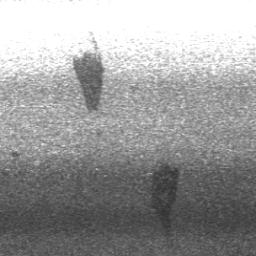Iron scale compression: (73, 36, 104, 113), (152, 166, 179, 234)
